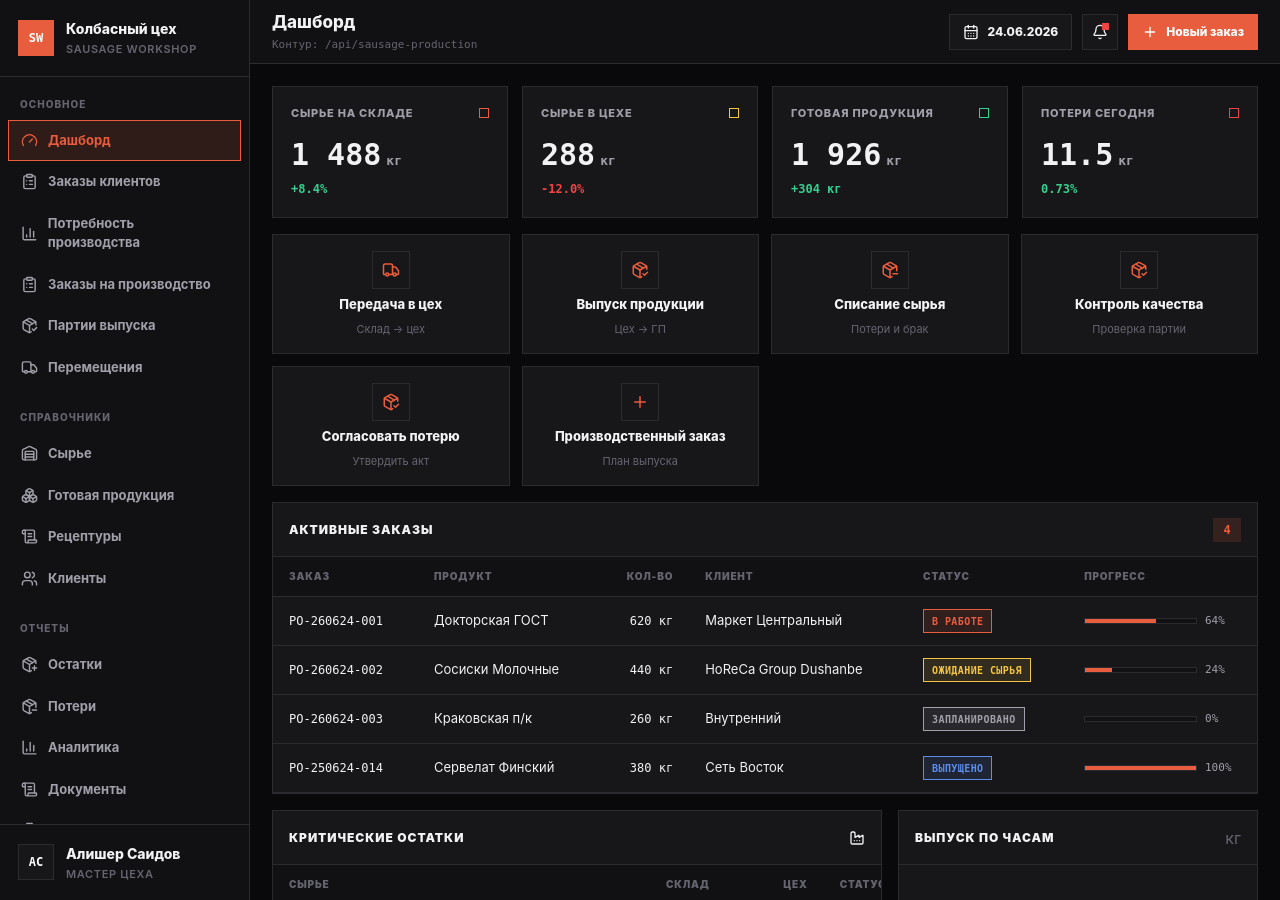
Scenario: Sausage Workshop app › opens release modal and blocks accepted quantity above produced quantity
Click the button "Выпуск продукции Цех -> ГП". click: (640, 294)
box: left=522, top=234, right=759, bottom=354
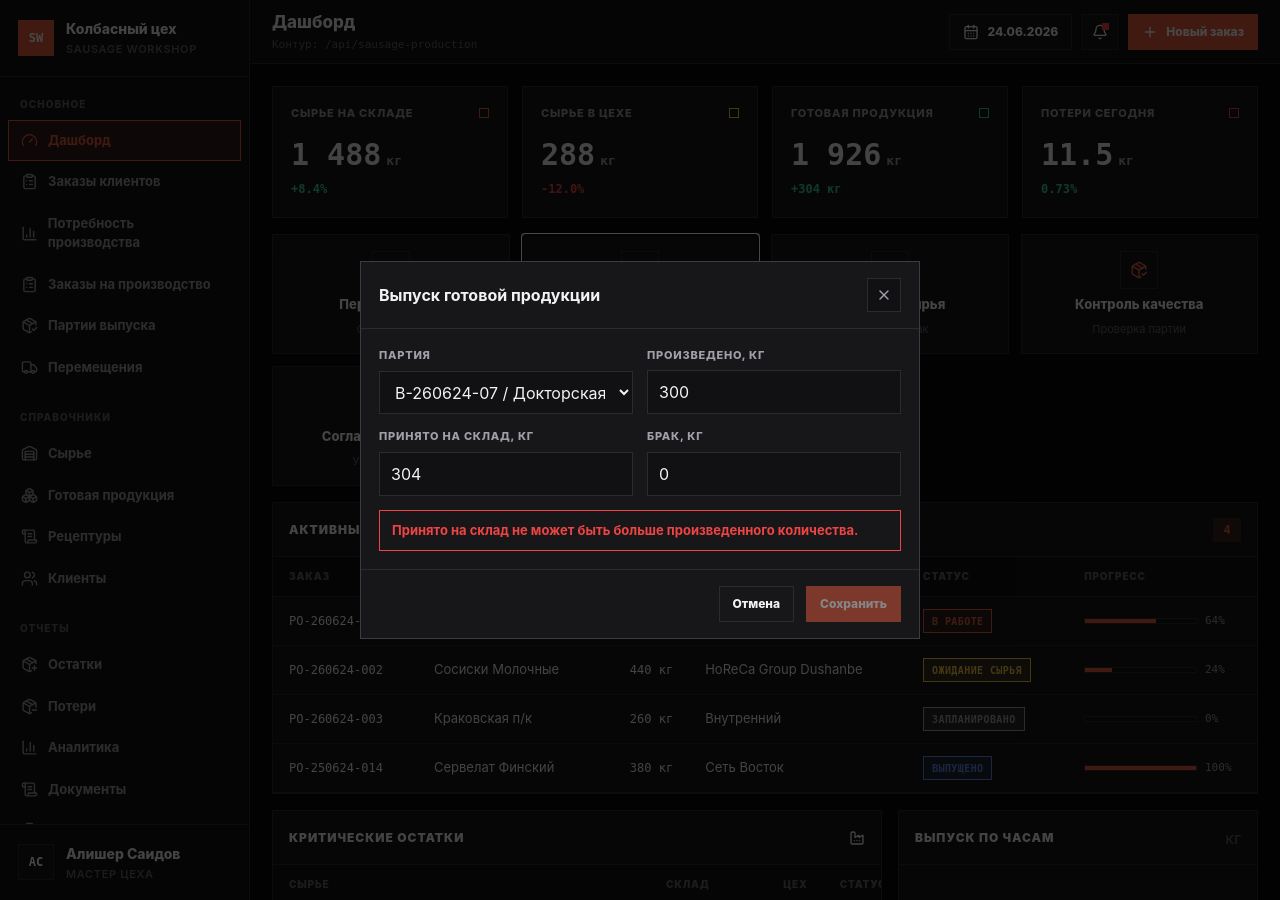
Result: the dialog "Выпуск готовой продукции" is shown at left=360, top=261, right=920, bottom=639
Result: the text "Принято на склад не может быть больше произведенного количества." is shown at left=379, top=510, right=901, bottom=551
Result: the button "Сохранить" is disabled at left=806, top=586, right=901, bottom=622
